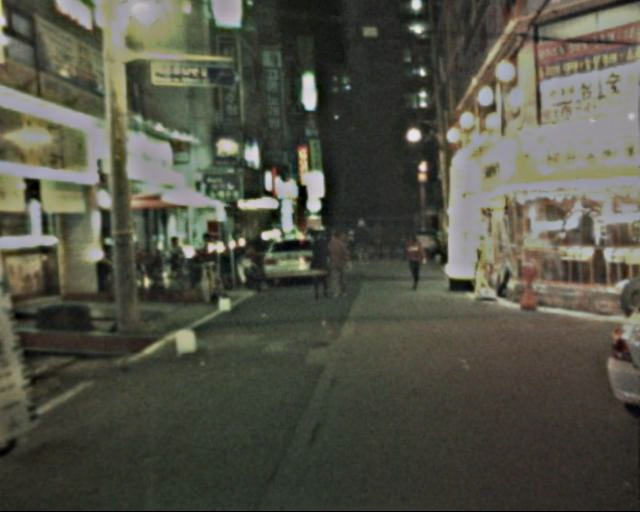person: (322, 224, 352, 302), (304, 225, 333, 302), (400, 225, 429, 292), (350, 216, 375, 270), (377, 222, 403, 260)
